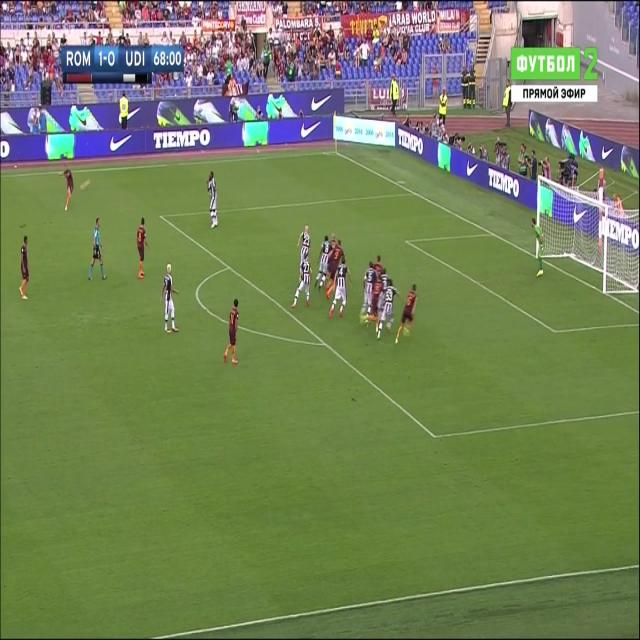Ball: (78, 176, 92, 197)
Goalkeeper: (530, 216, 548, 284)
Player: (394, 280, 421, 352), (352, 258, 376, 326), (327, 256, 350, 325), (376, 278, 399, 347), (159, 263, 181, 335), (222, 296, 242, 368), (291, 260, 314, 313), (17, 232, 33, 302), (326, 239, 344, 300), (313, 235, 330, 294), (205, 171, 221, 231), (135, 217, 149, 280), (296, 225, 313, 259)
Referee: (86, 214, 110, 285)
